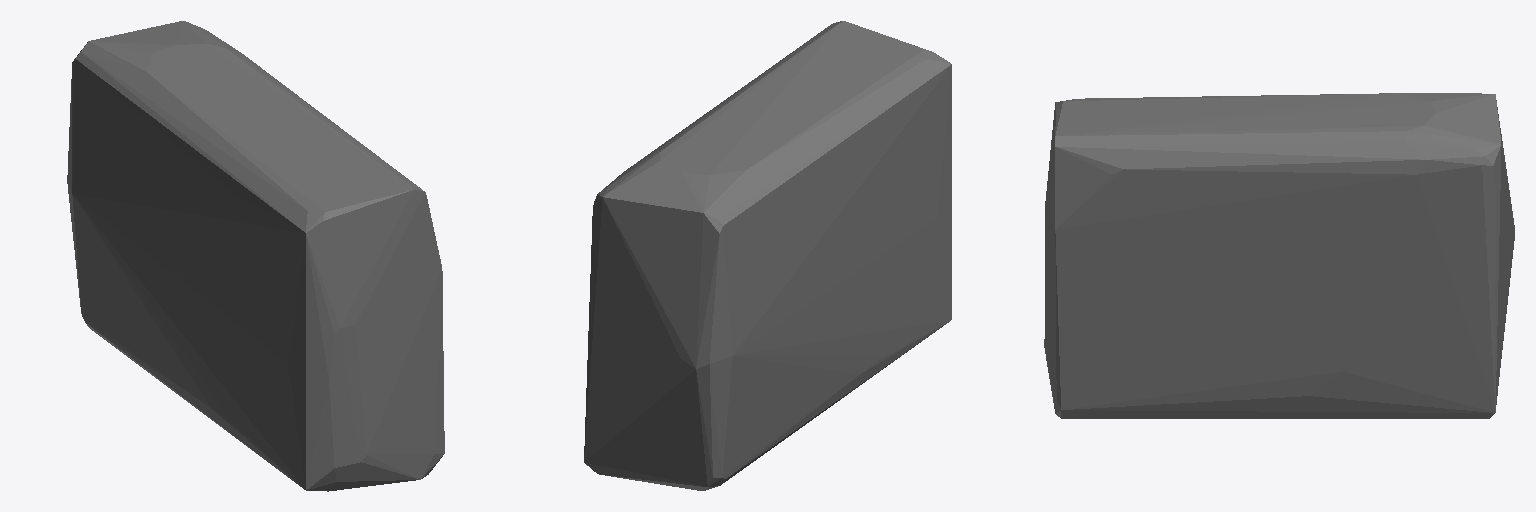
The robot description file, URDF, robot "camera_000":
<?xml version="1.0" ?>
<robot name="camera_000">
  <material name="color">
    <color rgba=".5 .5 .5 1"/>
  </material>

  <link name="base_link">
    <contact>
      <lateral_friction value="1.0"/>
      <rolling_friction value="0.001"/>
      <spinning_friction value="0.001"/>
      <inertia_scaling value="1.0"/>
    </contact>
    <inertial>
      <origin rpy="0 0 0" xyz="0.000433739 -0.00340892 -0.0024137"/>
       <mass value="0.1"/>
       <inertia ixx="1" ixy="0" ixz="0" iyy="1" iyz="0" izz="1"/>
    </inertial>

    <visual>
      <origin rpy="0 0 0" xyz="0 0 0"/>
      <geometry>
        <mesh filename="camera_000_vhacd_0_of_1.obj" scale="1 1 1"/>
      </geometry>
      <material name="color"/>
    </visual>

    <collision>
      <origin rpy="0 0 0" xyz="0 0 0"/>
      <geometry>
        <mesh filename="camera_000_vhacd_0_of_1.obj" scale="1 1 1"/>
      </geometry>
    </collision>

  </link>
</robot>

--- Render facts (derived) ---
The picture shows the robot from 3 angles, left to right: view 1: azimuth 30°, elevation 25°; view 2: azimuth 150°, elevation 25°; view 3: azimuth 270°, elevation 25°; orthographic projection.
Model camera_000 with 1 links and 0 joints (none), rooted at base_link, posed every joint at zero.
Visible links, largest first — view 1: base_link; view 2: base_link; view 3: base_link.
Boxes of the visible links, x1,y1,x2,y2 form: base_link: [67, 21, 444, 491]; base_link: [584, 21, 951, 490]; base_link: [1044, 93, 1514, 418].
Bounding box of the posed robot: 0.046 × 0.134 × 0.088 m (x, y, z).
1 mesh visuals loaded from 1 distinct referenced files (1 OBJ).